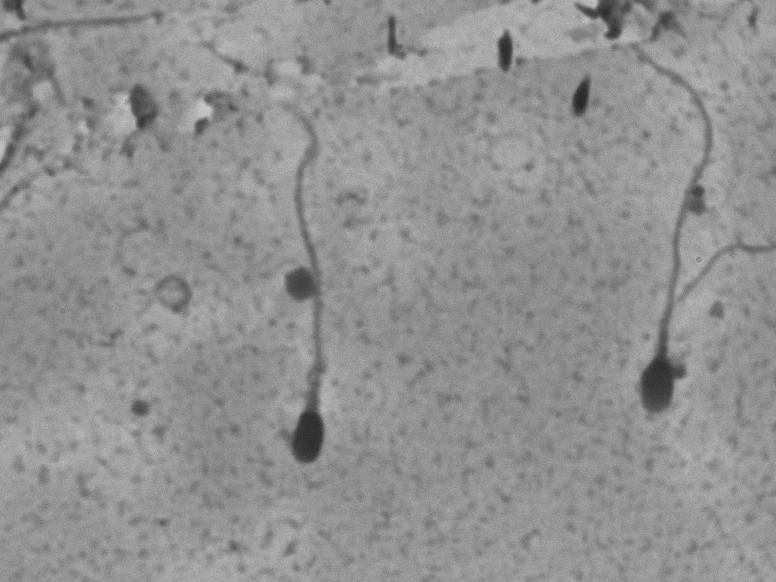Abnormal: (232, 83, 369, 485)
Normal: (628, 44, 720, 419)
